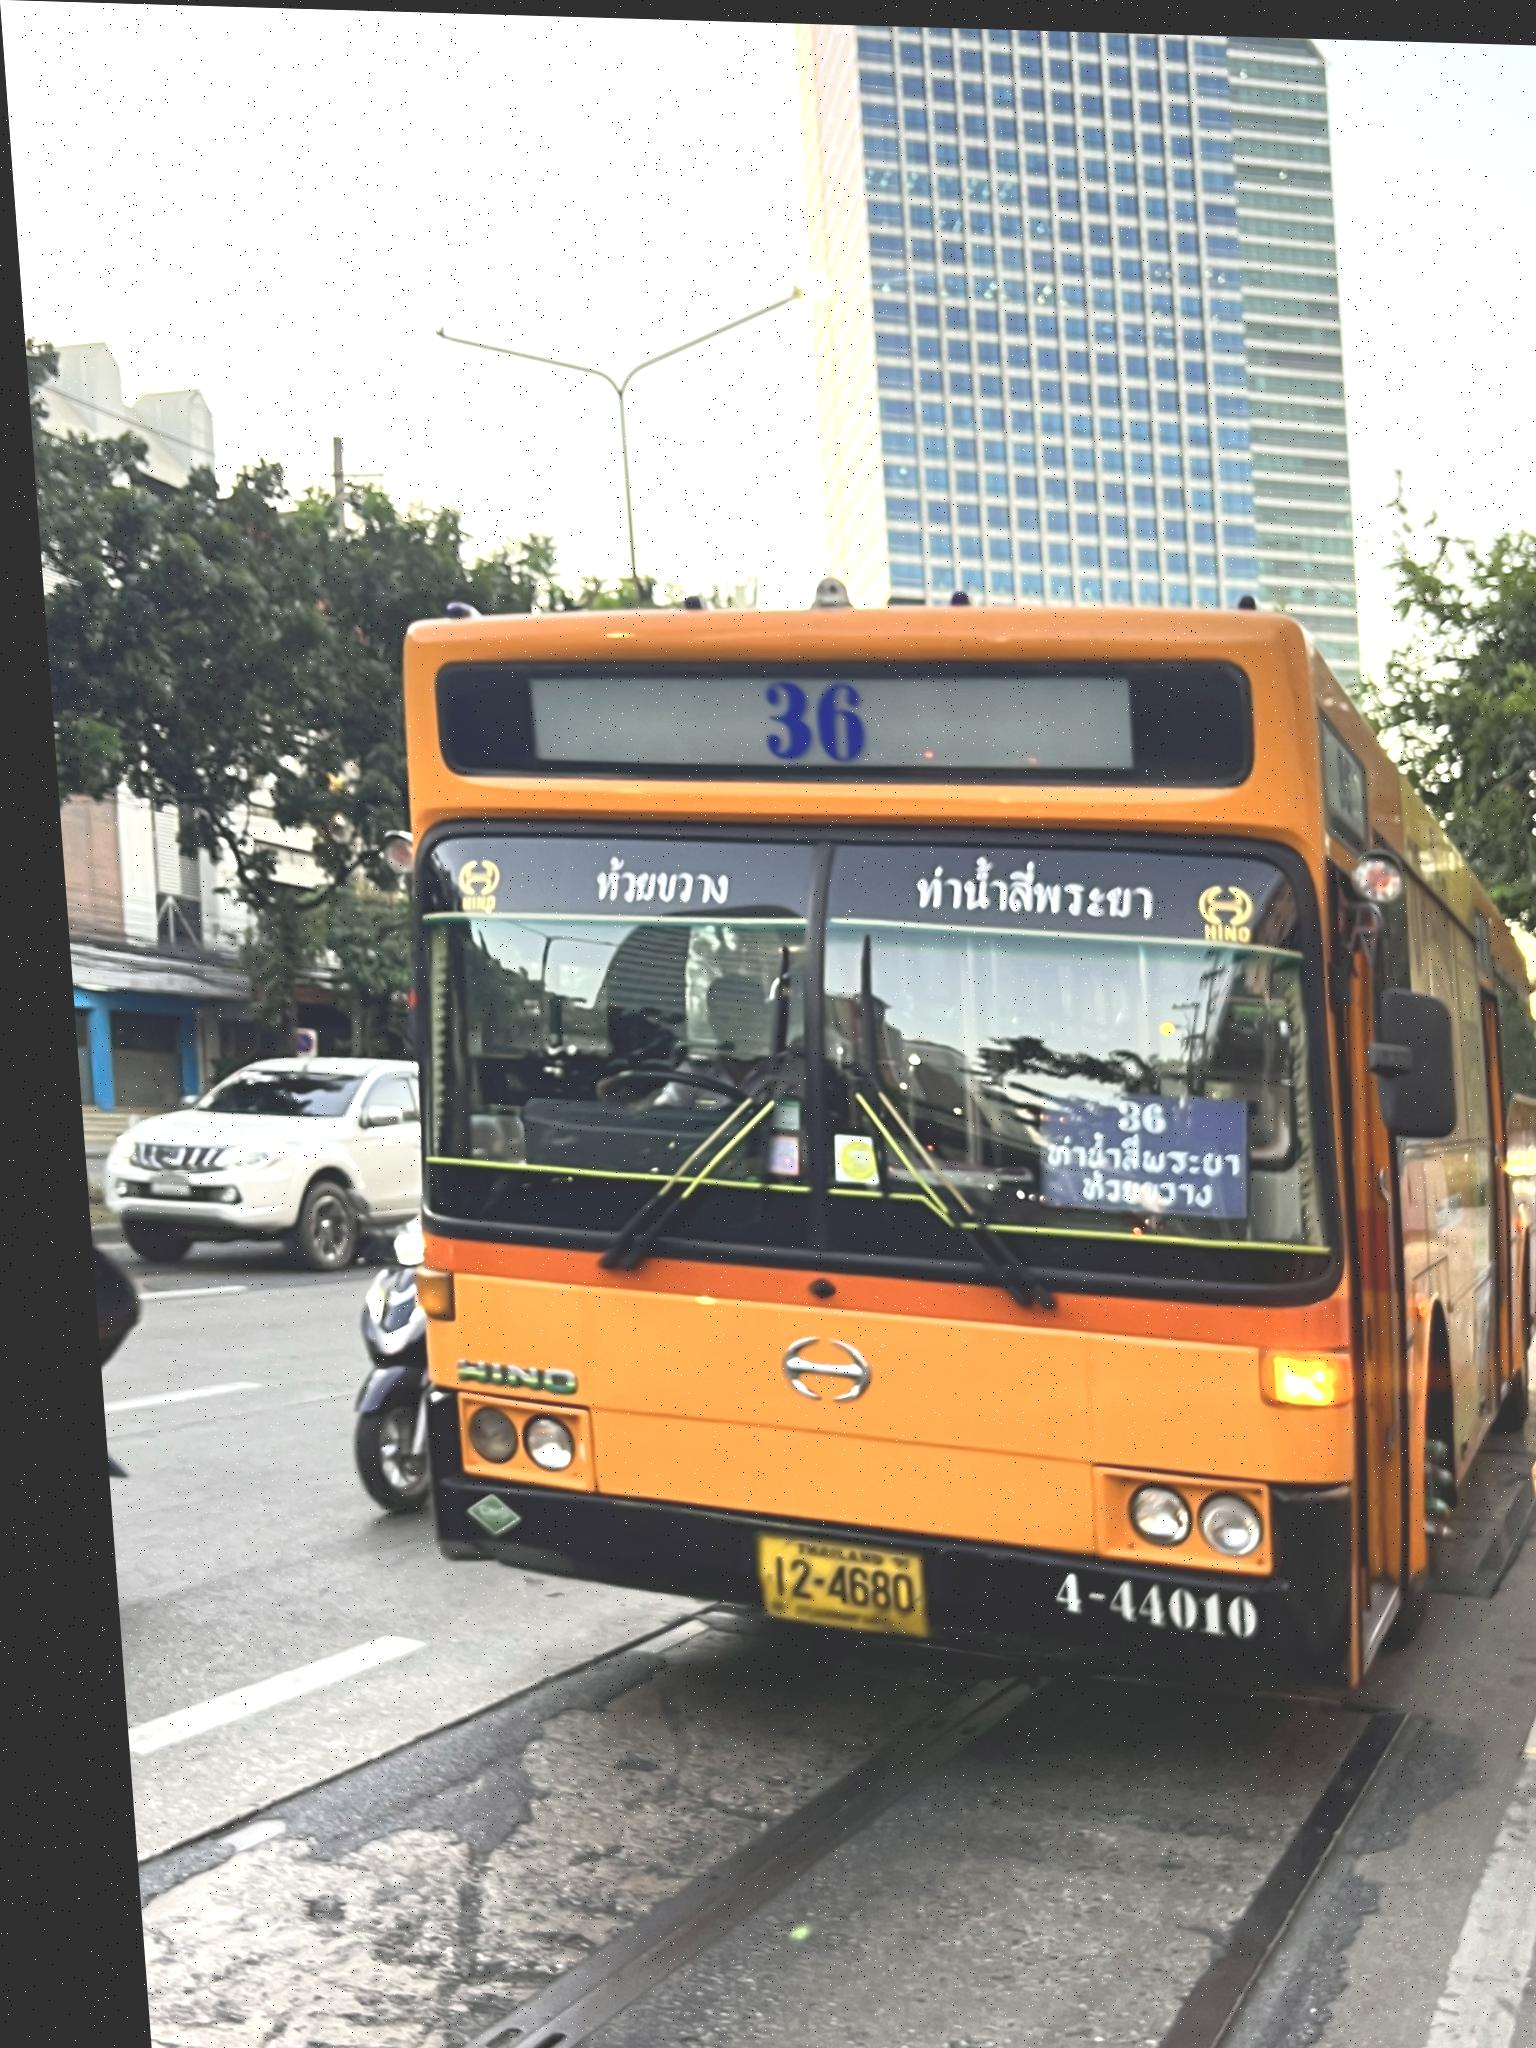BMTA-bus: (334, 600, 1533, 1682)
Bus Line Number: (723, 655, 879, 777)
Bus Side Number: (1012, 1555, 1249, 1651)
Destination Sign: (1012, 1068, 1236, 1221)
